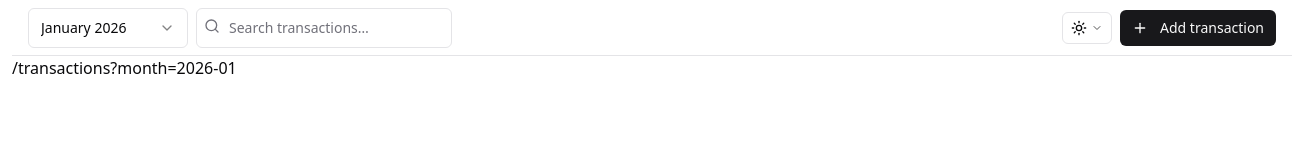
Scenario: Header search › preserves an existing ?month= when starting a search
In the search field labelled "Search transactions": (324, 28) [196,8,452,48], type "etterem"
Wait 300 ms
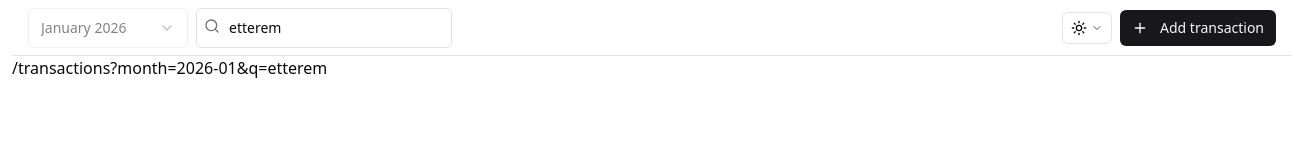
Expected: the text with test id "loc" reads "/transactions?month=2026-01&q=etterem", [12,57,327,79]
